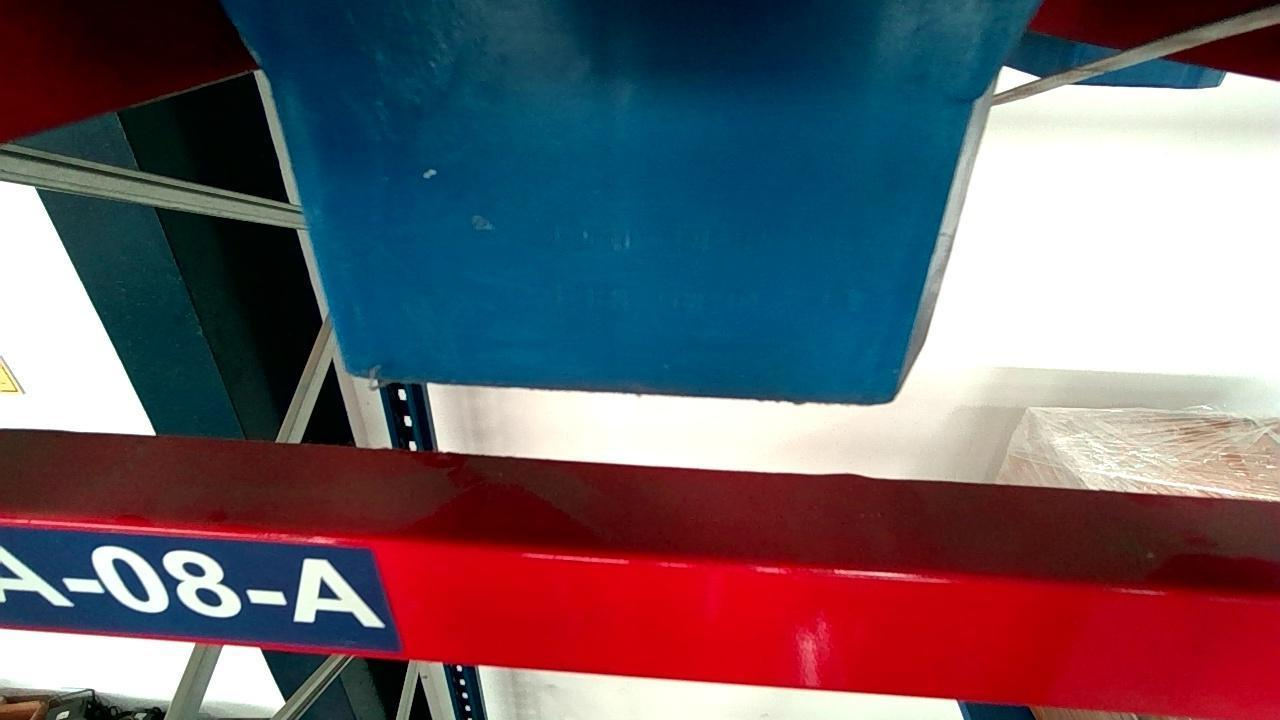h_rack: (0, 515, 1280, 720)
